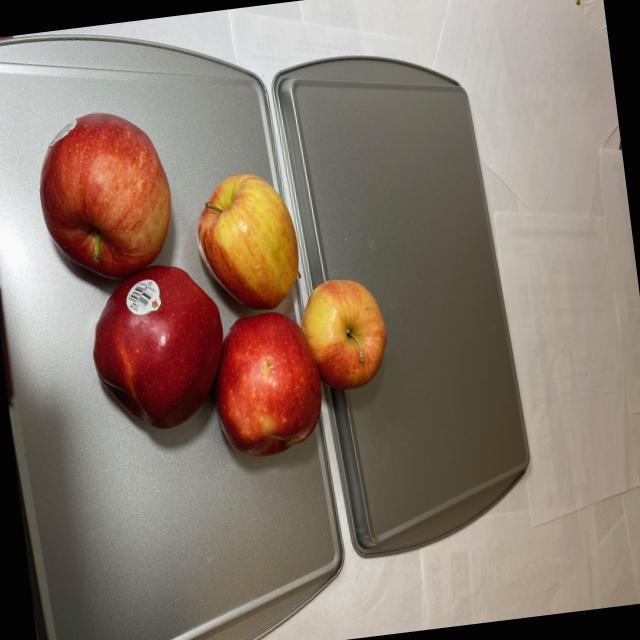apple: (29, 80, 401, 482)
